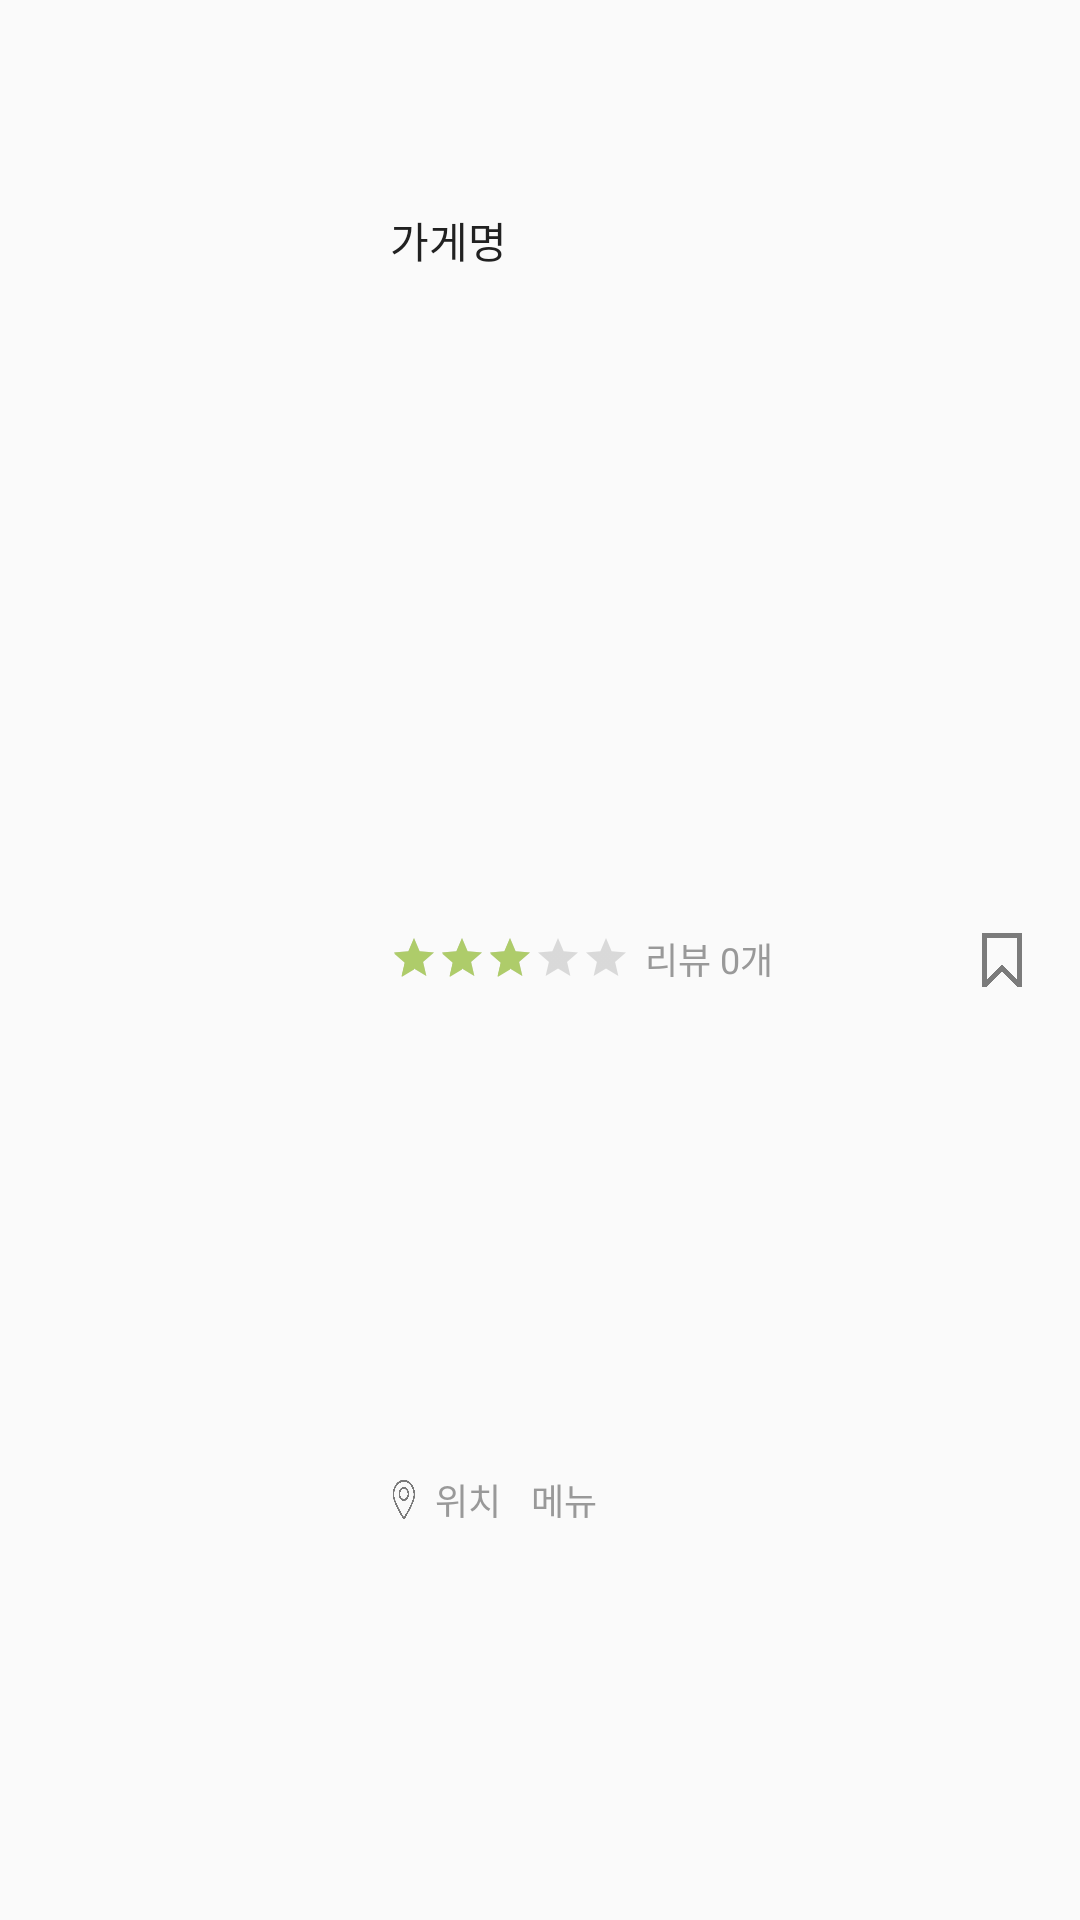

Screen size 1080*1920. Icon name, then its center in pixels as [x,y]:
save: [1002,960]
